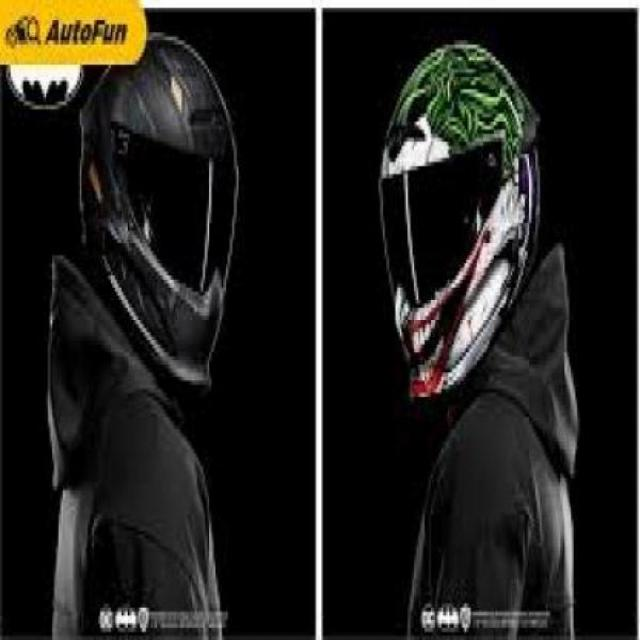Helmet: (81, 42, 251, 404), (379, 34, 544, 376)
